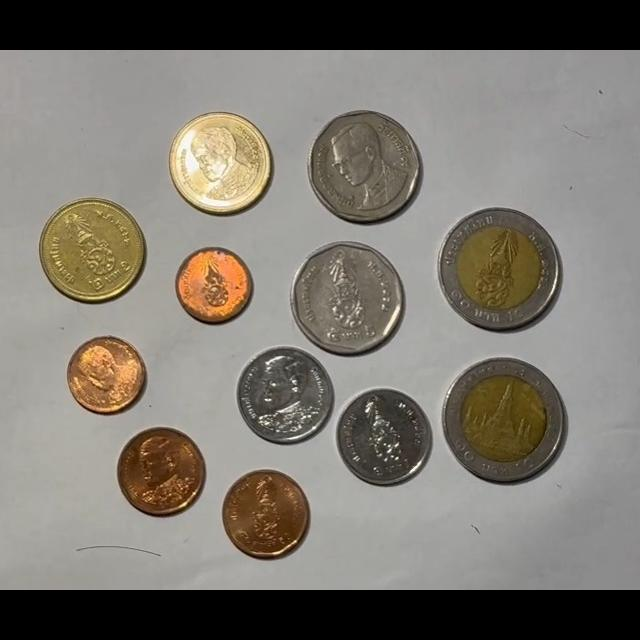1-baht: (336, 388, 434, 486), (236, 346, 333, 444)
10-baht: (442, 358, 567, 483), (437, 207, 562, 330)
2-baht: (39, 198, 144, 303), (169, 112, 274, 216)
25-satang: (67, 336, 146, 414), (175, 246, 253, 323)
5-baht: (290, 241, 405, 355), (308, 110, 423, 223)
50-satang: (117, 427, 206, 515), (222, 470, 310, 558)
